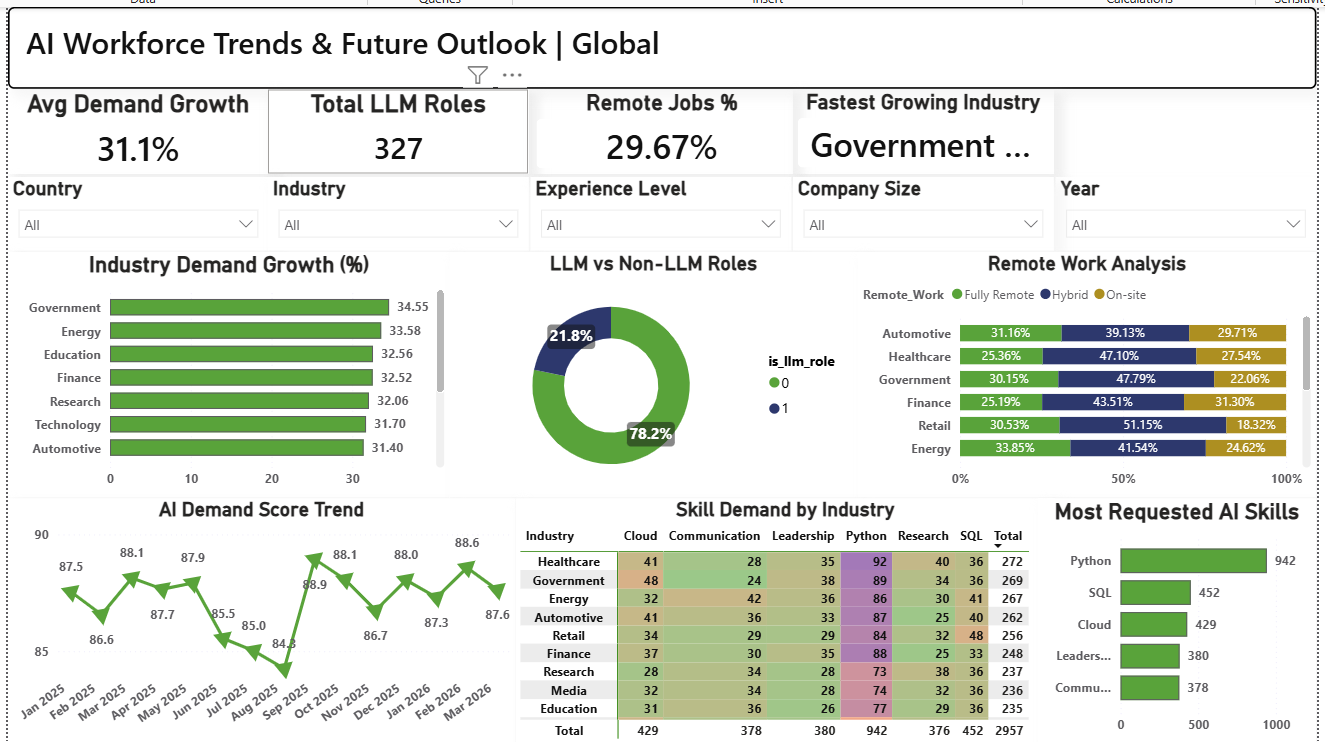

The dashboard page shown, as its layout file describes it:
{"tool":"powerbi","page":{"name":"Forecast Dashboard","canvas":[1280,720],"ordinal":3},"visuals":[{"type":"textbox","box":[0,272,176,64],"z":0},{"type":"cardVisual","fields":{"Data":["Measure_Table.Page4_Title"]},"box":[0,0,1280,80],"z":1000},{"type":"cardVisual","title":"Avg Demand Growth","fields":{"Data":["Measure_Table.Avg Demand Growth"]},"box":[0,81,255,82],"z":2000},{"type":"cardVisual","title":"Total LLM Roles","fields":{"Data":["Measure_Table.LLM Roles"]},"box":[254,81,255,82],"z":3000},{"type":"cardVisual","title":"Remote Jobs %","fields":{"Data":["Measure_Table.Remote Job %"]},"box":[512,81,255,82],"z":4000},{"type":"cardVisual","title":"Fastest Growing Industry","fields":{"Data":["Measure_Table.Fastest Growing Industry"]},"box":[768,81,255,82],"z":5000},{"type":"slicer","title":"Country","fields":{"Values":["Dim_Country.Country"]},"box":[0,166,255,72],"z":6000},{"type":"slicer","title":"Industry","fields":{"Values":["Dim_Industry.Industry"]},"box":[254,166,255,72],"z":7000},{"type":"slicer","title":"Year","fields":{"Values":["Dim_Date.Year"]},"box":[1025,166,255,72],"z":8000},{"type":"slicer","title":"Experience Level","fields":{"Values":["Dim_Experience.Experience_Level"]},"box":[511,166,255,72],"z":9000},{"type":"slicer","title":"Company Size","fields":{"Values":["Dim_Company_Size.Company_Size"]},"box":[768,166,255,72],"z":10000},{"type":"clusteredBarChart","title":"Industry Demand Growth (%)","fields":{"Category":["Dim_Industry.Industry"],"Y":["Measure_Table.Avg Demand Growth"]},"box":[0,240,432,240],"z":11000},{"type":"donutChart","title":"LLM vs Non-LLM Roles","fields":{"Category":["fact_jobs.is_llm_role"],"Y":["Measure_Table.Total Jobs"]},"box":[432,240,400,240],"z":12000},{"type":"hundredPercentStackedBarChart","title":"Remote Work Analysis","fields":{"Category":["Dim_Industry.Industry"],"Y":["Measure_Table.Job Count"],"Series":["Dim_Remote.Remote_Work"]},"box":[832,240,448,240],"z":13000},{"type":"lineChart","title":"AI Demand Score Trend","fields":{"Category":["Dim_Date.YearMonth"],"Y":["Measure_Table.Avg Demand Score"]},"box":[0,480,496,240],"z":14000},{"type":"pivotTable","title":"Skill Demand by Industry","fields":{"Rows":["Dim_Industry.Industry"],"Columns":["dim_skill.Skill"],"Values":["Measure_Table.Skill Count"]},"box":[496,480,528,240],"z":15000},{"type":"clusteredBarChart","title":"Most Requested AI Skills","fields":{"Y":["Measure_Table.Skill Count"],"Category":["fact_skills.required_skills"]},"box":[1008,480,272,240],"z":16000}]}

Visuals, with their boxes on the page's 1280x720 design canvas (x1, y1, x2, y2). These are canvas units, not pixel positions in the 1325x742 screenshot, which may show the page scaled, cropped or inside an application window:
textbox: pyautogui.locateOnScreen(0, 272, 176, 336)
cardVisual - Measure_Table.Page4_Title: pyautogui.locateOnScreen(0, 0, 1280, 80)
"Avg Demand Growth" cardVisual: pyautogui.locateOnScreen(0, 81, 255, 163)
"Total LLM Roles" cardVisual: pyautogui.locateOnScreen(254, 81, 509, 163)
"Remote Jobs %" cardVisual: pyautogui.locateOnScreen(512, 81, 767, 163)
"Fastest Growing Industry" cardVisual: pyautogui.locateOnScreen(768, 81, 1023, 163)
"Country" slicer: pyautogui.locateOnScreen(0, 166, 255, 238)
"Industry" slicer: pyautogui.locateOnScreen(254, 166, 509, 238)
"Year" slicer: pyautogui.locateOnScreen(1025, 166, 1280, 238)
"Experience Level" slicer: pyautogui.locateOnScreen(511, 166, 766, 238)
"Company Size" slicer: pyautogui.locateOnScreen(768, 166, 1023, 238)
"Industry Demand Growth (%)" clusteredBarChart: pyautogui.locateOnScreen(0, 240, 432, 480)
"LLM vs Non-LLM Roles" donutChart: pyautogui.locateOnScreen(432, 240, 832, 480)
"Remote Work Analysis" hundredPercentStackedBarChart: pyautogui.locateOnScreen(832, 240, 1280, 480)
"AI Demand Score Trend" lineChart: pyautogui.locateOnScreen(0, 480, 496, 720)
"Skill Demand by Industry" pivotTable: pyautogui.locateOnScreen(496, 480, 1024, 720)
"Most Requested AI Skills" clusteredBarChart: pyautogui.locateOnScreen(1008, 480, 1280, 720)
